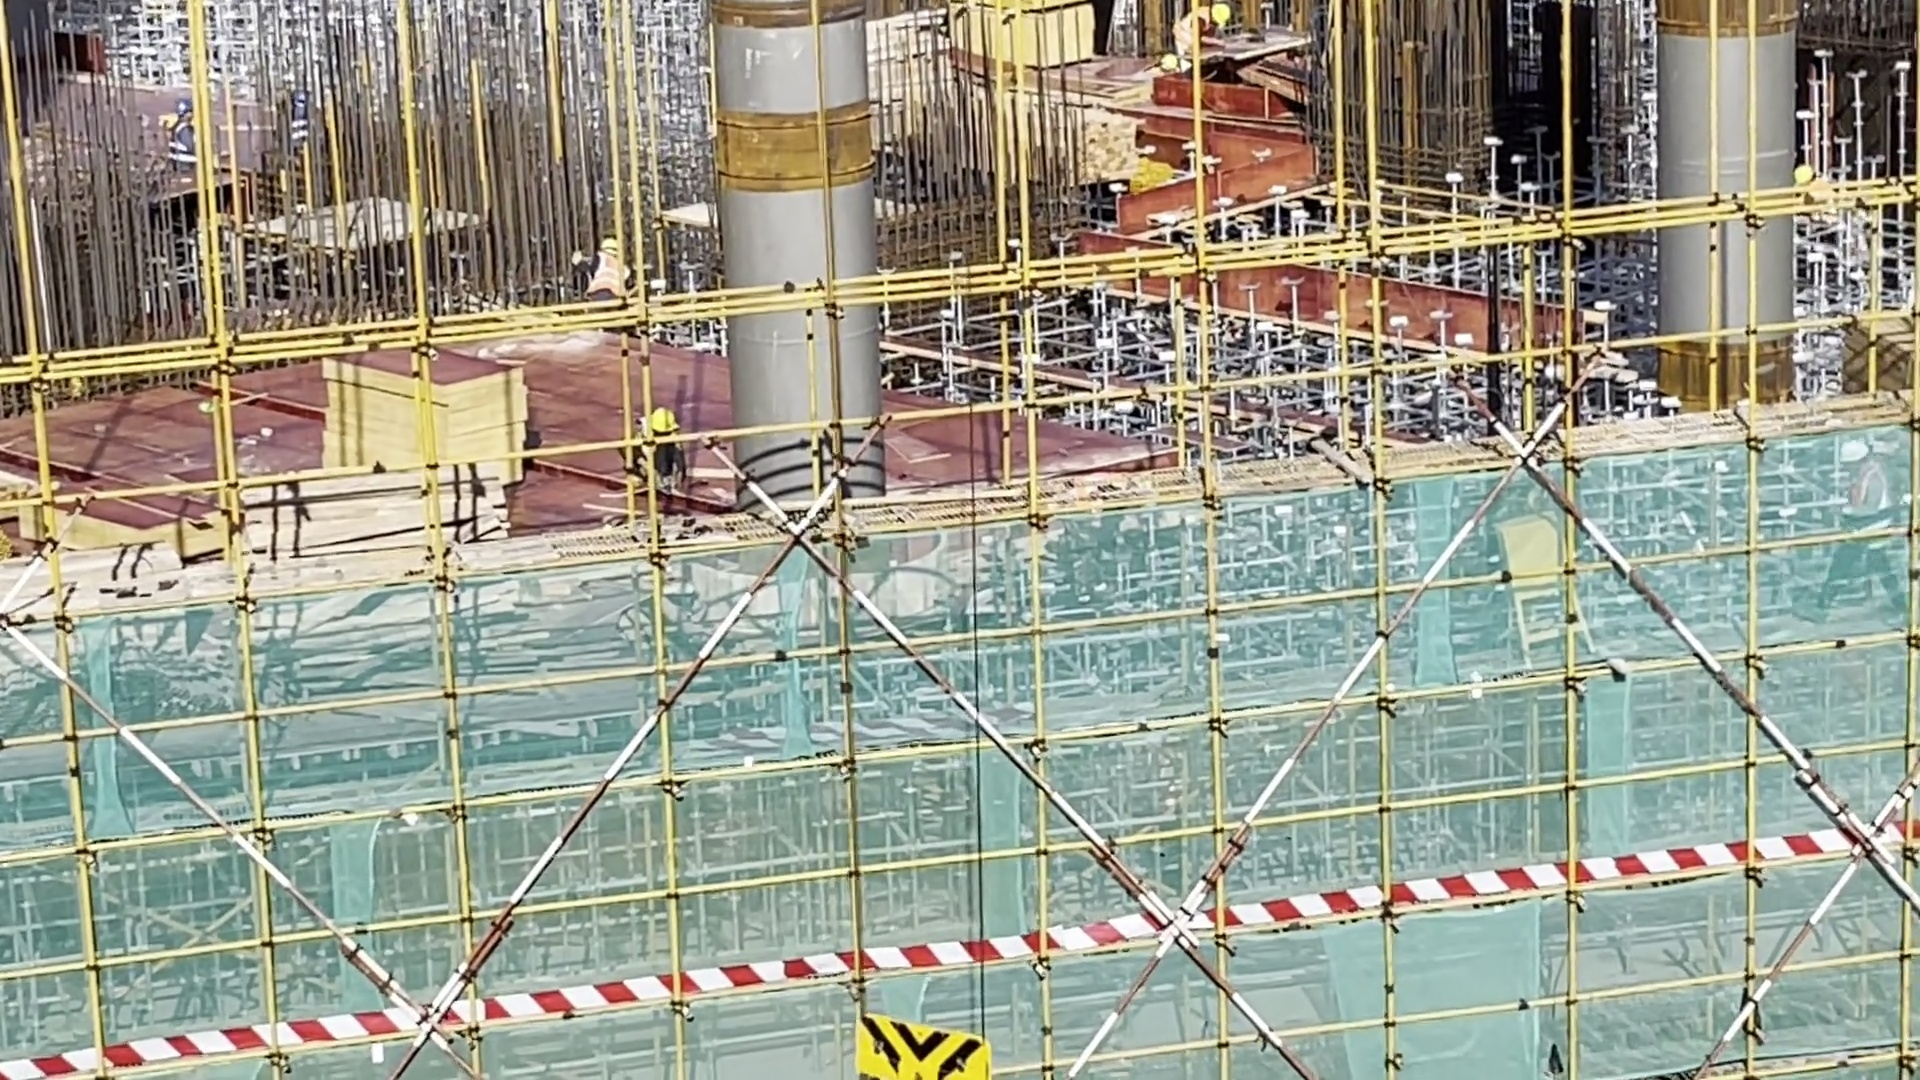board: (320, 345, 521, 488)
helmet: (654, 404, 681, 433), (1210, 1, 1230, 24)
hook: (856, 1014, 990, 1080)
person: (573, 234, 639, 301), (1166, 1, 1237, 63), (640, 411, 682, 511)
vest: (1169, 6, 1210, 54), (589, 252, 626, 299)
